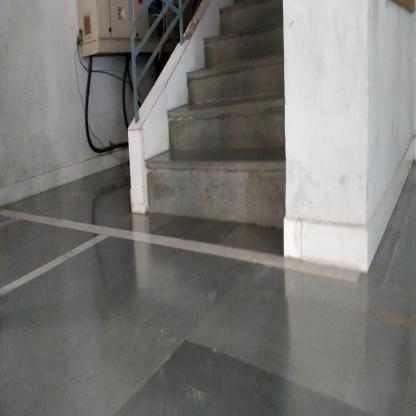stairs: (216, 14, 281, 236)
